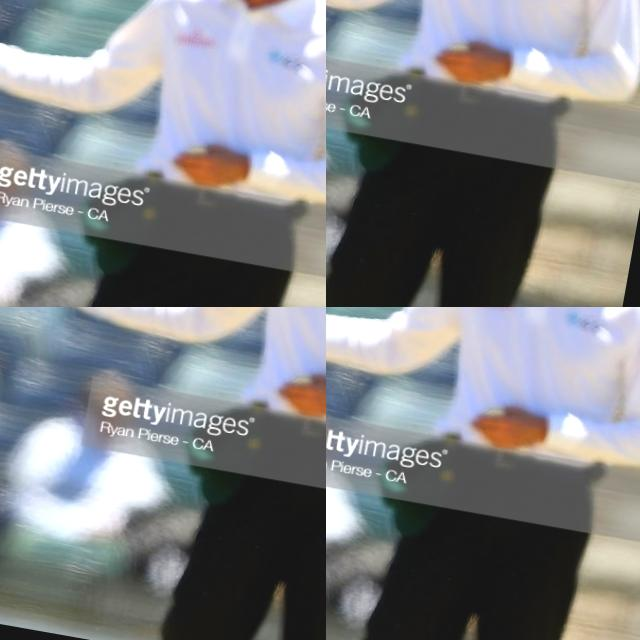No_Action: (326, 0, 495, 156), (0, 0, 90, 174)
No_Ball: (0, 307, 326, 640), (326, 307, 640, 640)
